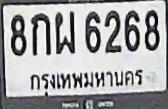2: (104, 10, 121, 52)
6: (84, 10, 100, 52), (124, 9, 139, 51)
8: (10, 13, 26, 55), (144, 9, 159, 50)
A01: (30, 12, 52, 56)
A28: (54, 10, 75, 54)
BKK: (27, 64, 145, 94)
